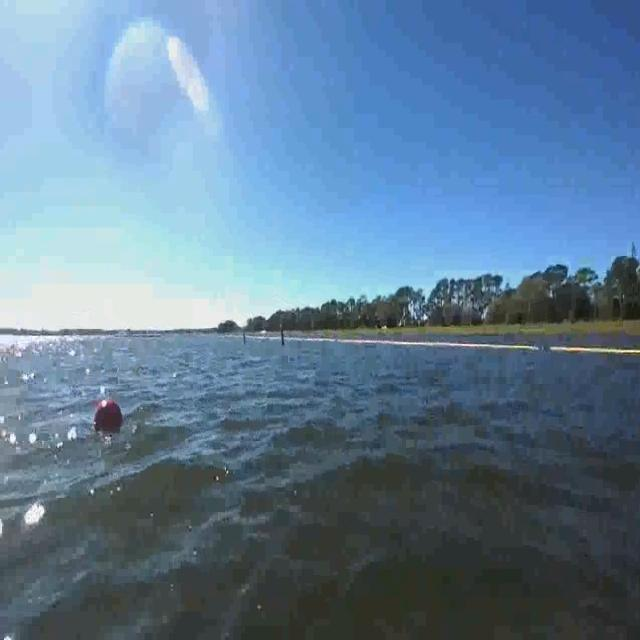red-buoy: (93, 400, 123, 438)
